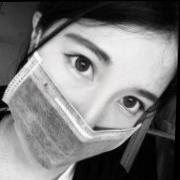WRONG: (13, 28, 169, 167)
